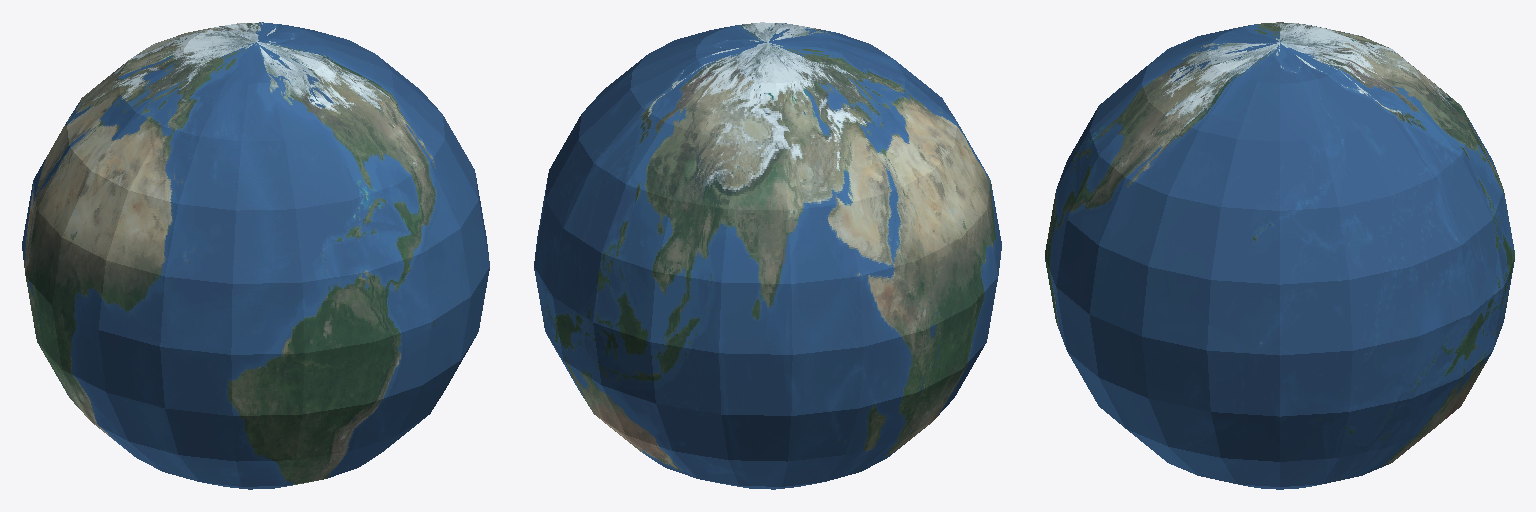
3 renders of one model, left to right at view 1: azimuth 30°, elevation 25°; view 2: azimuth 150°, elevation 25°; view 3: azimuth 270°, elevation 25°, orthographic.
Parts seen in each view (by area): view 1: pSphere1; view 2: pSphere1; view 3: pSphere1.
Boxes of the visible parts, x1,y1,x2,y2 form: pSphere1: [22, 22, 489, 489]; pSphere1: [534, 22, 1001, 489]; pSphere1: [1045, 22, 1514, 489].
Bounding box in the file's own units: 23.31 × 23.31 × 23.31.
1 materials, 1 textured.